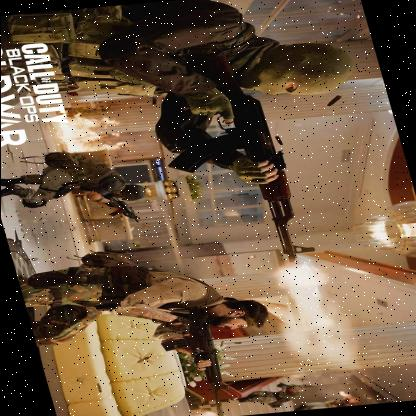rifle: (154, 48, 316, 270), (154, 307, 240, 416)
